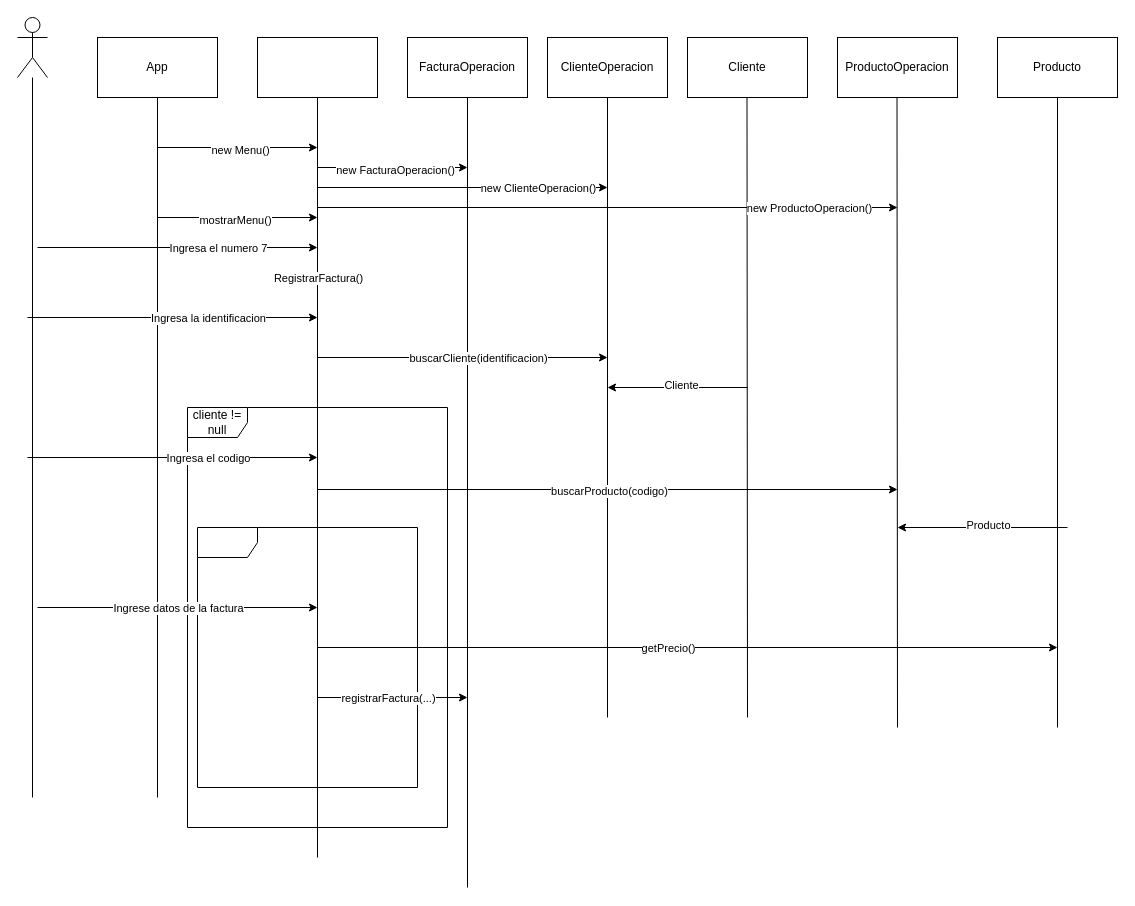
Some shapes in this 1135 by 906 pixel diagram are drawn without their labels. Here are the shapes that lost their labels. From the top down, the centre of each, then its label:
pixel 32 47: Actor
pixel 317 67: Menu
pixel 307 657: producto != null
